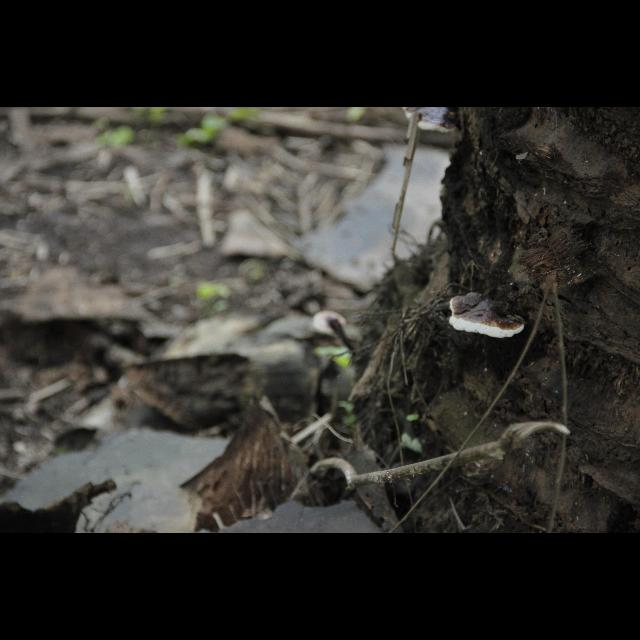ganoderma: (451, 293, 526, 340), (403, 108, 459, 134), (312, 312, 348, 339)
